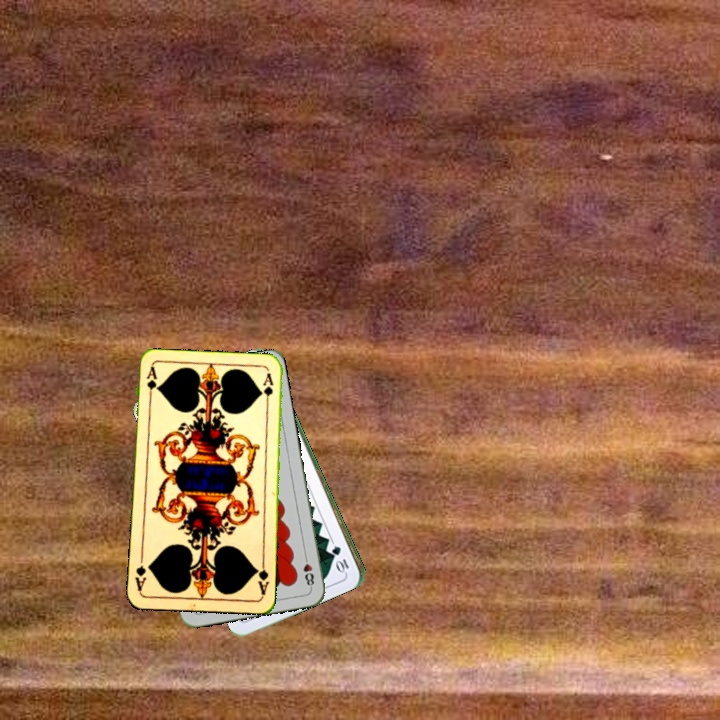G10: (330, 541, 351, 574)
GA: (252, 557, 271, 598), (142, 363, 159, 404)
H8: (299, 550, 317, 590)
